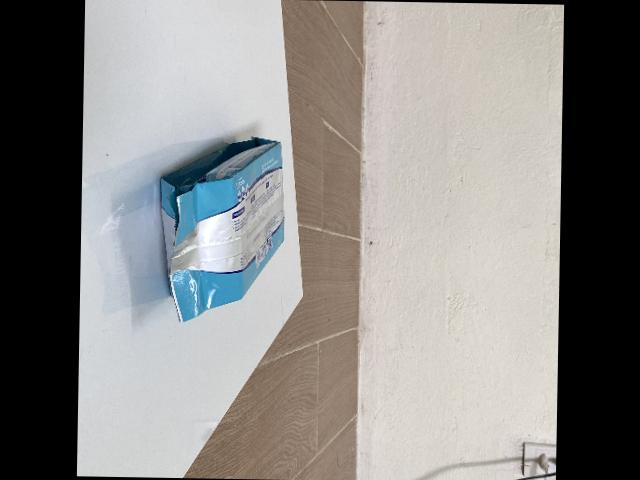Let-green_alcohol_wipes: (157, 135, 283, 322)
